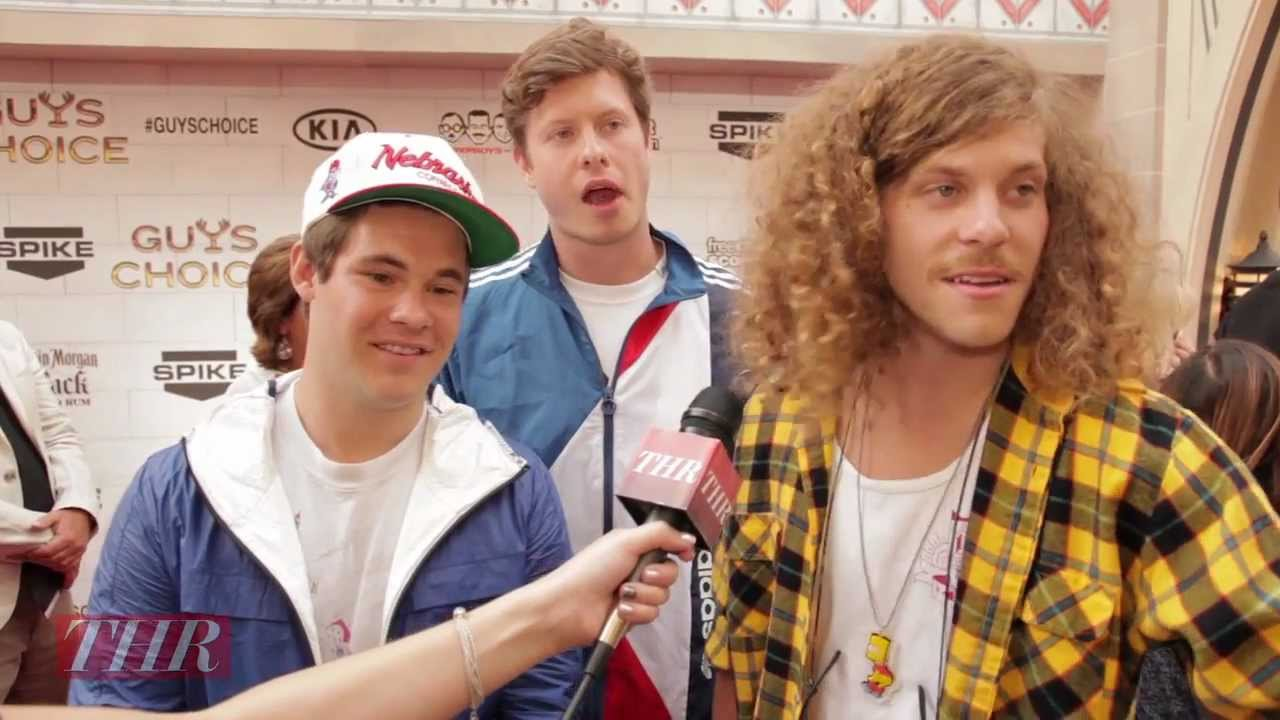Person: (770, 31, 1134, 720), (94, 153, 483, 677), (518, 47, 690, 440)
